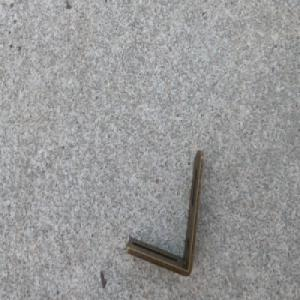MetalPart: (124, 148, 204, 277)
